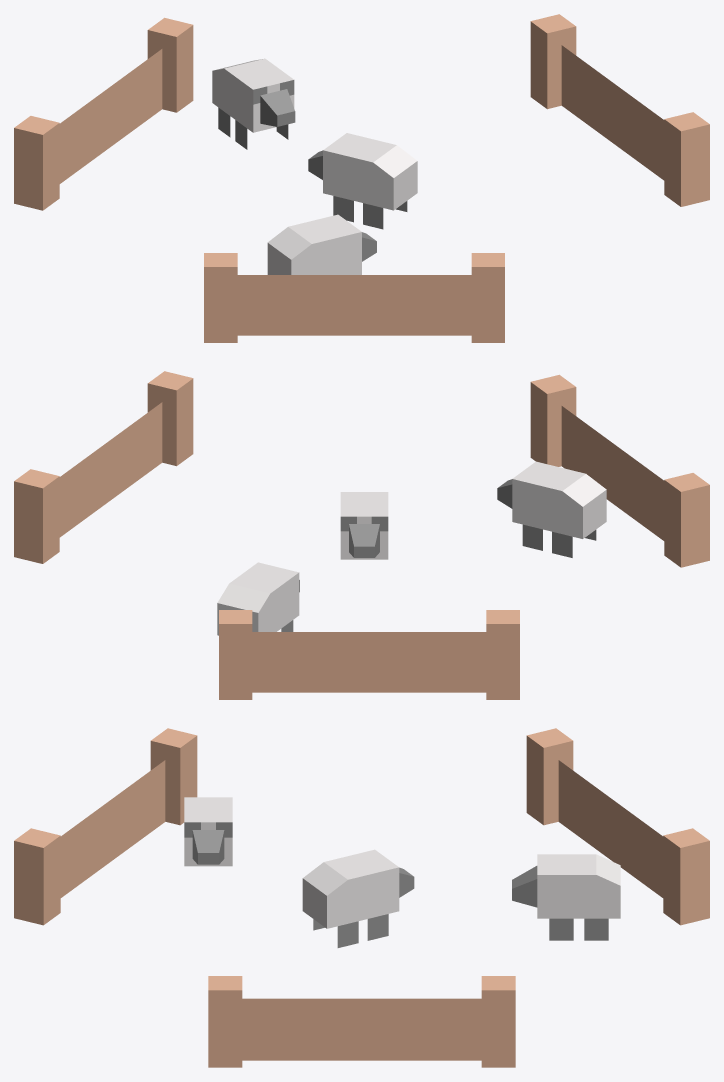
File: Corral.fbx
The picture shows the model from 3 angles, top to bottom: view 1: azimuth 30°, elevation 25°; view 2: azimuth 150°, elevation 25°; view 3: azimuth 270°, elevation 25°; orthographic projection. The views are drawn at different scales.
Visible parts, largest first — view 1: Fence3, Fence2, Fence1, Sheep1, Sheep2, Sheep3; view 2: Fence2, Fence1, Fence3, Sheep3, Sheep2, Sheep1; view 3: Fence1, Fence2, Fence3, Sheep1, Sheep2, Sheep3.
Part boxes in pixels (<box>): Fence3: <box>204,253,504,342</box>; Fence2: <box>14,17,193,210</box>; Fence1: <box>530,14,709,206</box>; Sheep1: <box>308,133,417,229</box>; Sheep2: <box>212,58,295,149</box>; Sheep3: <box>267,214,376,274</box>; Fence2: <box>219,610,519,699</box>; Fence1: <box>14,371,193,563</box>; Fence3: <box>530,374,709,567</box>; Sheep3: <box>497,461,606,557</box>; Sheep2: <box>217,562,299,635</box>; Sheep1: <box>340,492,388,559</box>; Fence1: <box>208,976,515,1067</box>; Fence2: <box>526,728,709,925</box>; Fence3: <box>14,728,197,925</box>; Sheep1: <box>302,849,414,947</box>; Sheep2: <box>512,854,620,940</box>; Sheep3: <box>184,797,232,866</box>.
Bounding box in the file's own units: 90.74 × 12.5 × 102.
